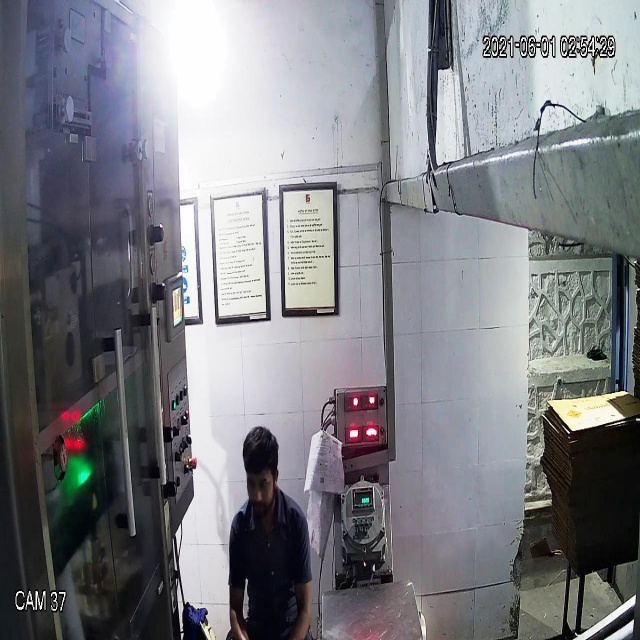Sin_gafas: (242, 470, 278, 501)
